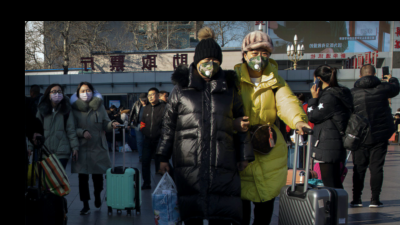with_mask: (244, 50, 269, 72), (196, 56, 218, 79), (78, 88, 92, 102), (48, 89, 62, 103)
without_mask: (146, 93, 157, 104)
